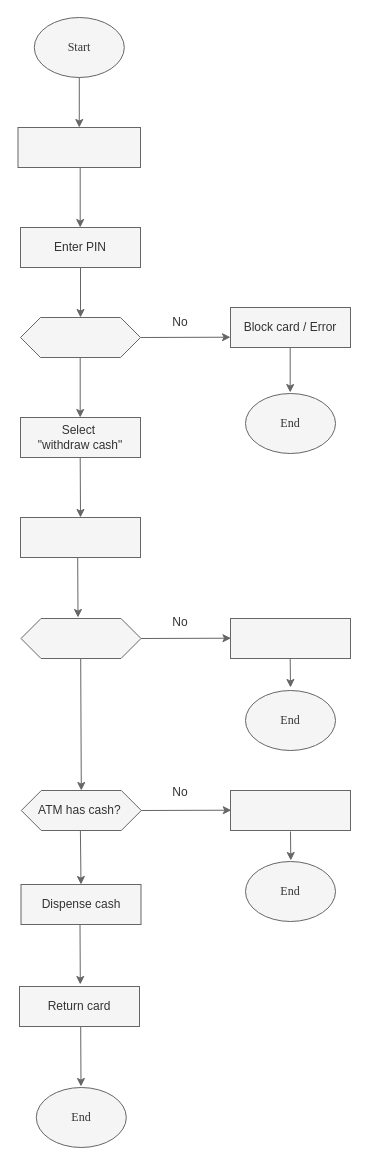
The diagram is 368 pixels wide and 1165 high, and some of its shapes have lost their labels. The shapes that lost their labels are listed below. From the top down, each one's centre as x and y in pixels, then its label:
point 78,147: Insert card
point 80,337: Pin correct?
point 80,537: Enter amount
point 80,638: Enough balance?
point 290,638: Insufficient funds
point 290,810: ATM has no cash
